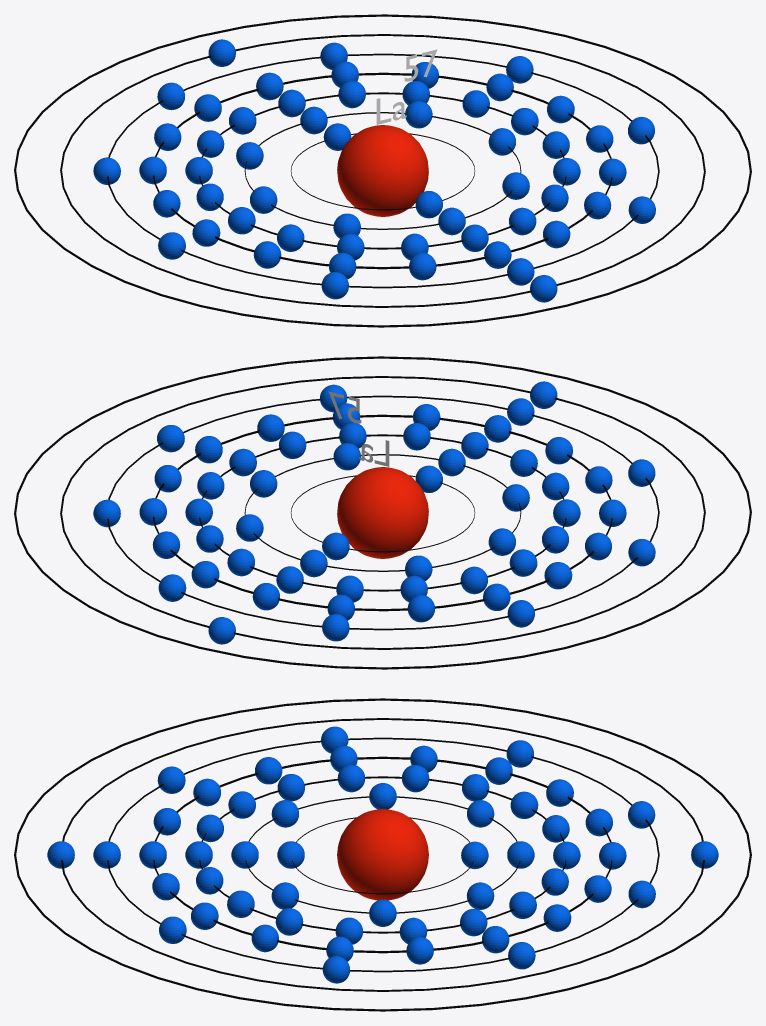
The picture shows the model from 3 angles, top to bottom: view 1: azimuth 30°, elevation 25°; view 2: azimuth 150°, elevation 25°; view 3: azimuth 270°, elevation 25°; orthographic projection.
Parts seen in each view (by area): view 1: La3, La4, Proton, La5, La2, n7, n6, n5, n4, La6, La1, n3 (+1 smaller); view 2: La3, La4, Proton, La5, La2, n7, n6, n5, n4, La6, La1, n3 (+1 smaller); view 3: La3, La4, Proton, La5, La2, n7, n6, n5, n4, La1, La6, n3 (+2 smaller).
Part boxes in pixels (<box>): La3: <box>185,80,580,260</box>; La4: <box>139,61,626,280</box>; Proton: <box>337,125,428,216</box>; La5: <box>93,42,655,299</box>; La2: <box>236,101,529,238</box>; n7: <box>14,14,751,327</box>; n6: <box>60,34,705,307</box>; n5: <box>107,53,659,288</box>; n4: <box>153,72,612,269</box>; La6: <box>208,39,557,302</box>; La1: <box>323,123,442,218</box>; n3: <box>199,92,566,249</box>; La3: <box>185,422,580,602</box>; La4: <box>139,403,626,622</box>; Proton: <box>337,467,428,558</box>; La5: <box>93,384,655,641</box>; La2: <box>236,443,529,580</box>; n7: <box>14,356,751,669</box>; n6: <box>60,376,705,649</box>; n5: <box>107,395,659,630</box>; n4: <box>153,414,612,611</box>; La6: <box>208,381,557,644</box>; La1: <box>322,465,442,560</box>; n3: <box>199,434,566,591</box>; La3: <box>185,764,580,944</box>; La4: <box>139,745,626,964</box>; Proton: <box>337,809,428,900</box>; La5: <box>93,726,655,983</box>; La2: <box>231,783,534,926</box>; n7: <box>14,698,751,1011</box>; n6: <box>61,718,704,991</box>; n5: <box>107,737,659,972</box>; n4: <box>153,756,612,953</box>; La1: <box>277,841,488,869</box>; La6: <box>47,841,718,868</box>; n3: <box>199,776,566,933</box>.
Bounding box in the file's own units: 802 × 180 × 802.
